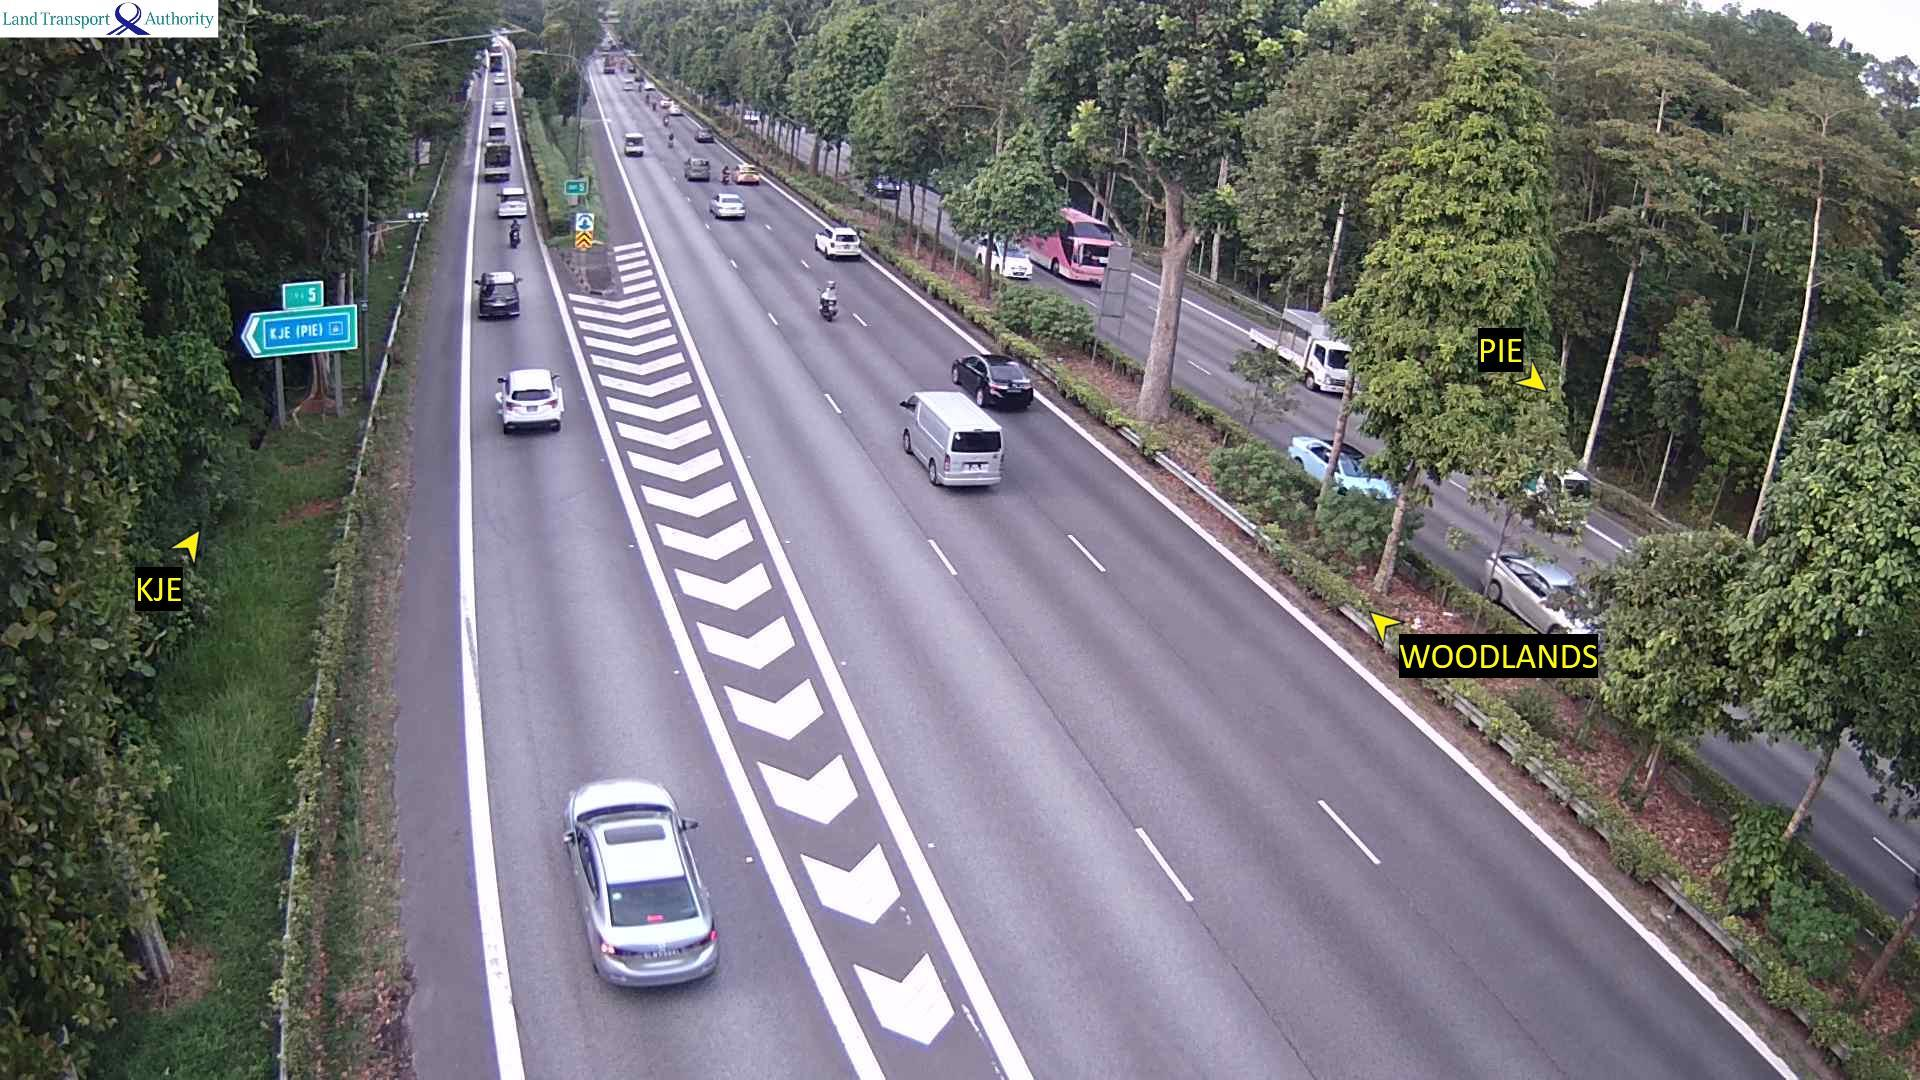bus: (1014, 204, 1120, 285)
cars: (560, 777, 720, 988), (895, 389, 1005, 489), (1484, 549, 1600, 636), (1287, 434, 1396, 502), (949, 352, 1033, 409), (495, 368, 564, 433), (964, 229, 1033, 280), (473, 269, 521, 319), (814, 225, 861, 258), (708, 190, 746, 219), (495, 185, 527, 218), (924, 167, 952, 196), (729, 161, 760, 185), (683, 156, 709, 179), (872, 174, 899, 196), (694, 125, 712, 142), (621, 73, 638, 90), (491, 98, 506, 113), (492, 69, 506, 84), (640, 79, 655, 94), (473, 47, 487, 65), (659, 95, 675, 108), (603, 59, 613, 73), (634, 69, 645, 79), (670, 105, 682, 115), (628, 63, 637, 73)
motorcycle: (818, 280, 837, 320), (506, 218, 520, 248), (719, 164, 731, 183), (667, 133, 678, 149), (662, 115, 670, 125), (645, 95, 650, 105), (651, 103, 658, 111)
trucks: (1247, 306, 1352, 396), (1518, 467, 1590, 505), (481, 145, 510, 181), (484, 123, 508, 148), (622, 132, 644, 156)
